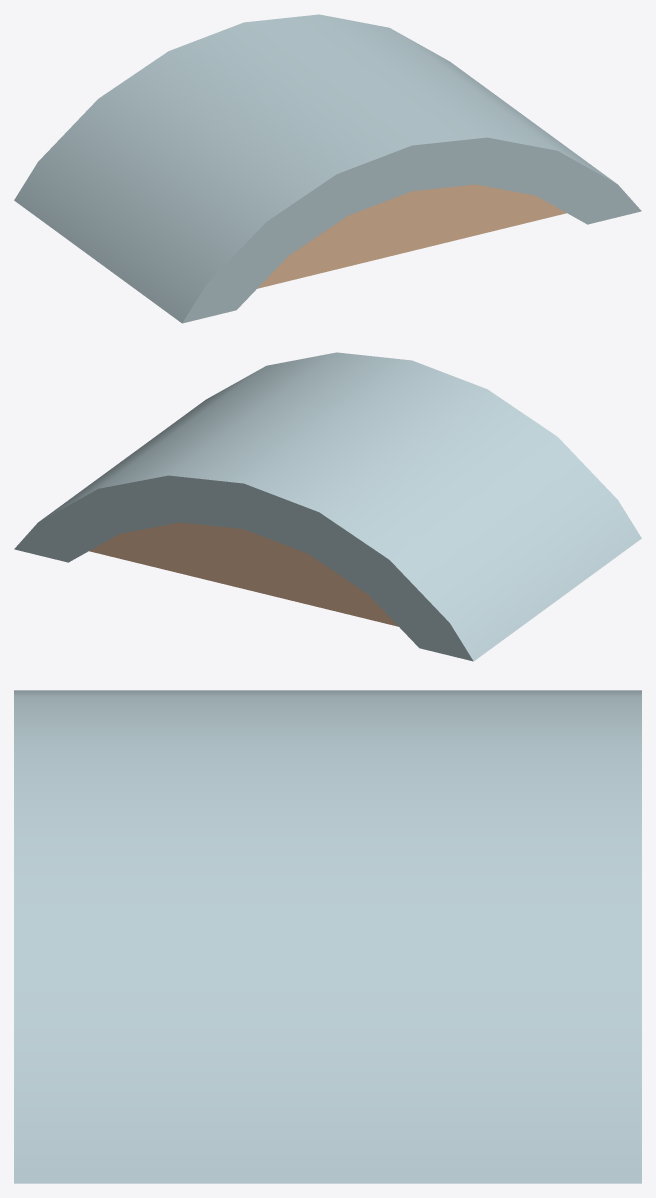
Rendered from blockSnowCurveLow.glb.
3 views of the same model, one above another, from view 1: azimuth 30°, elevation 25°; view 2: azimuth 150°, elevation 25°; view 3: azimuth 270°, elevation 25° (orthographic). The views are drawn at different scales.
Parts seen in each view (by area): view 1: blockSnowCurveLow; view 2: blockSnowCurveLow; view 3: blockSnowCurveLow.
Boxes of the visible parts, x1,y1,x2,y2 form: blockSnowCurveLow: (14, 14, 641, 323); blockSnowCurveLow: (14, 352, 641, 661); blockSnowCurveLow: (14, 690, 641, 1183).
Size of the model in its own units: 1.58 by 0.4 by 1.
